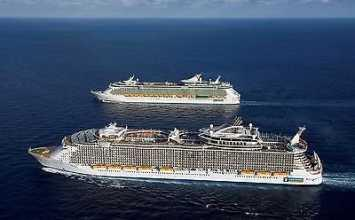youlun: (26, 122, 326, 186), (85, 71, 243, 105)
